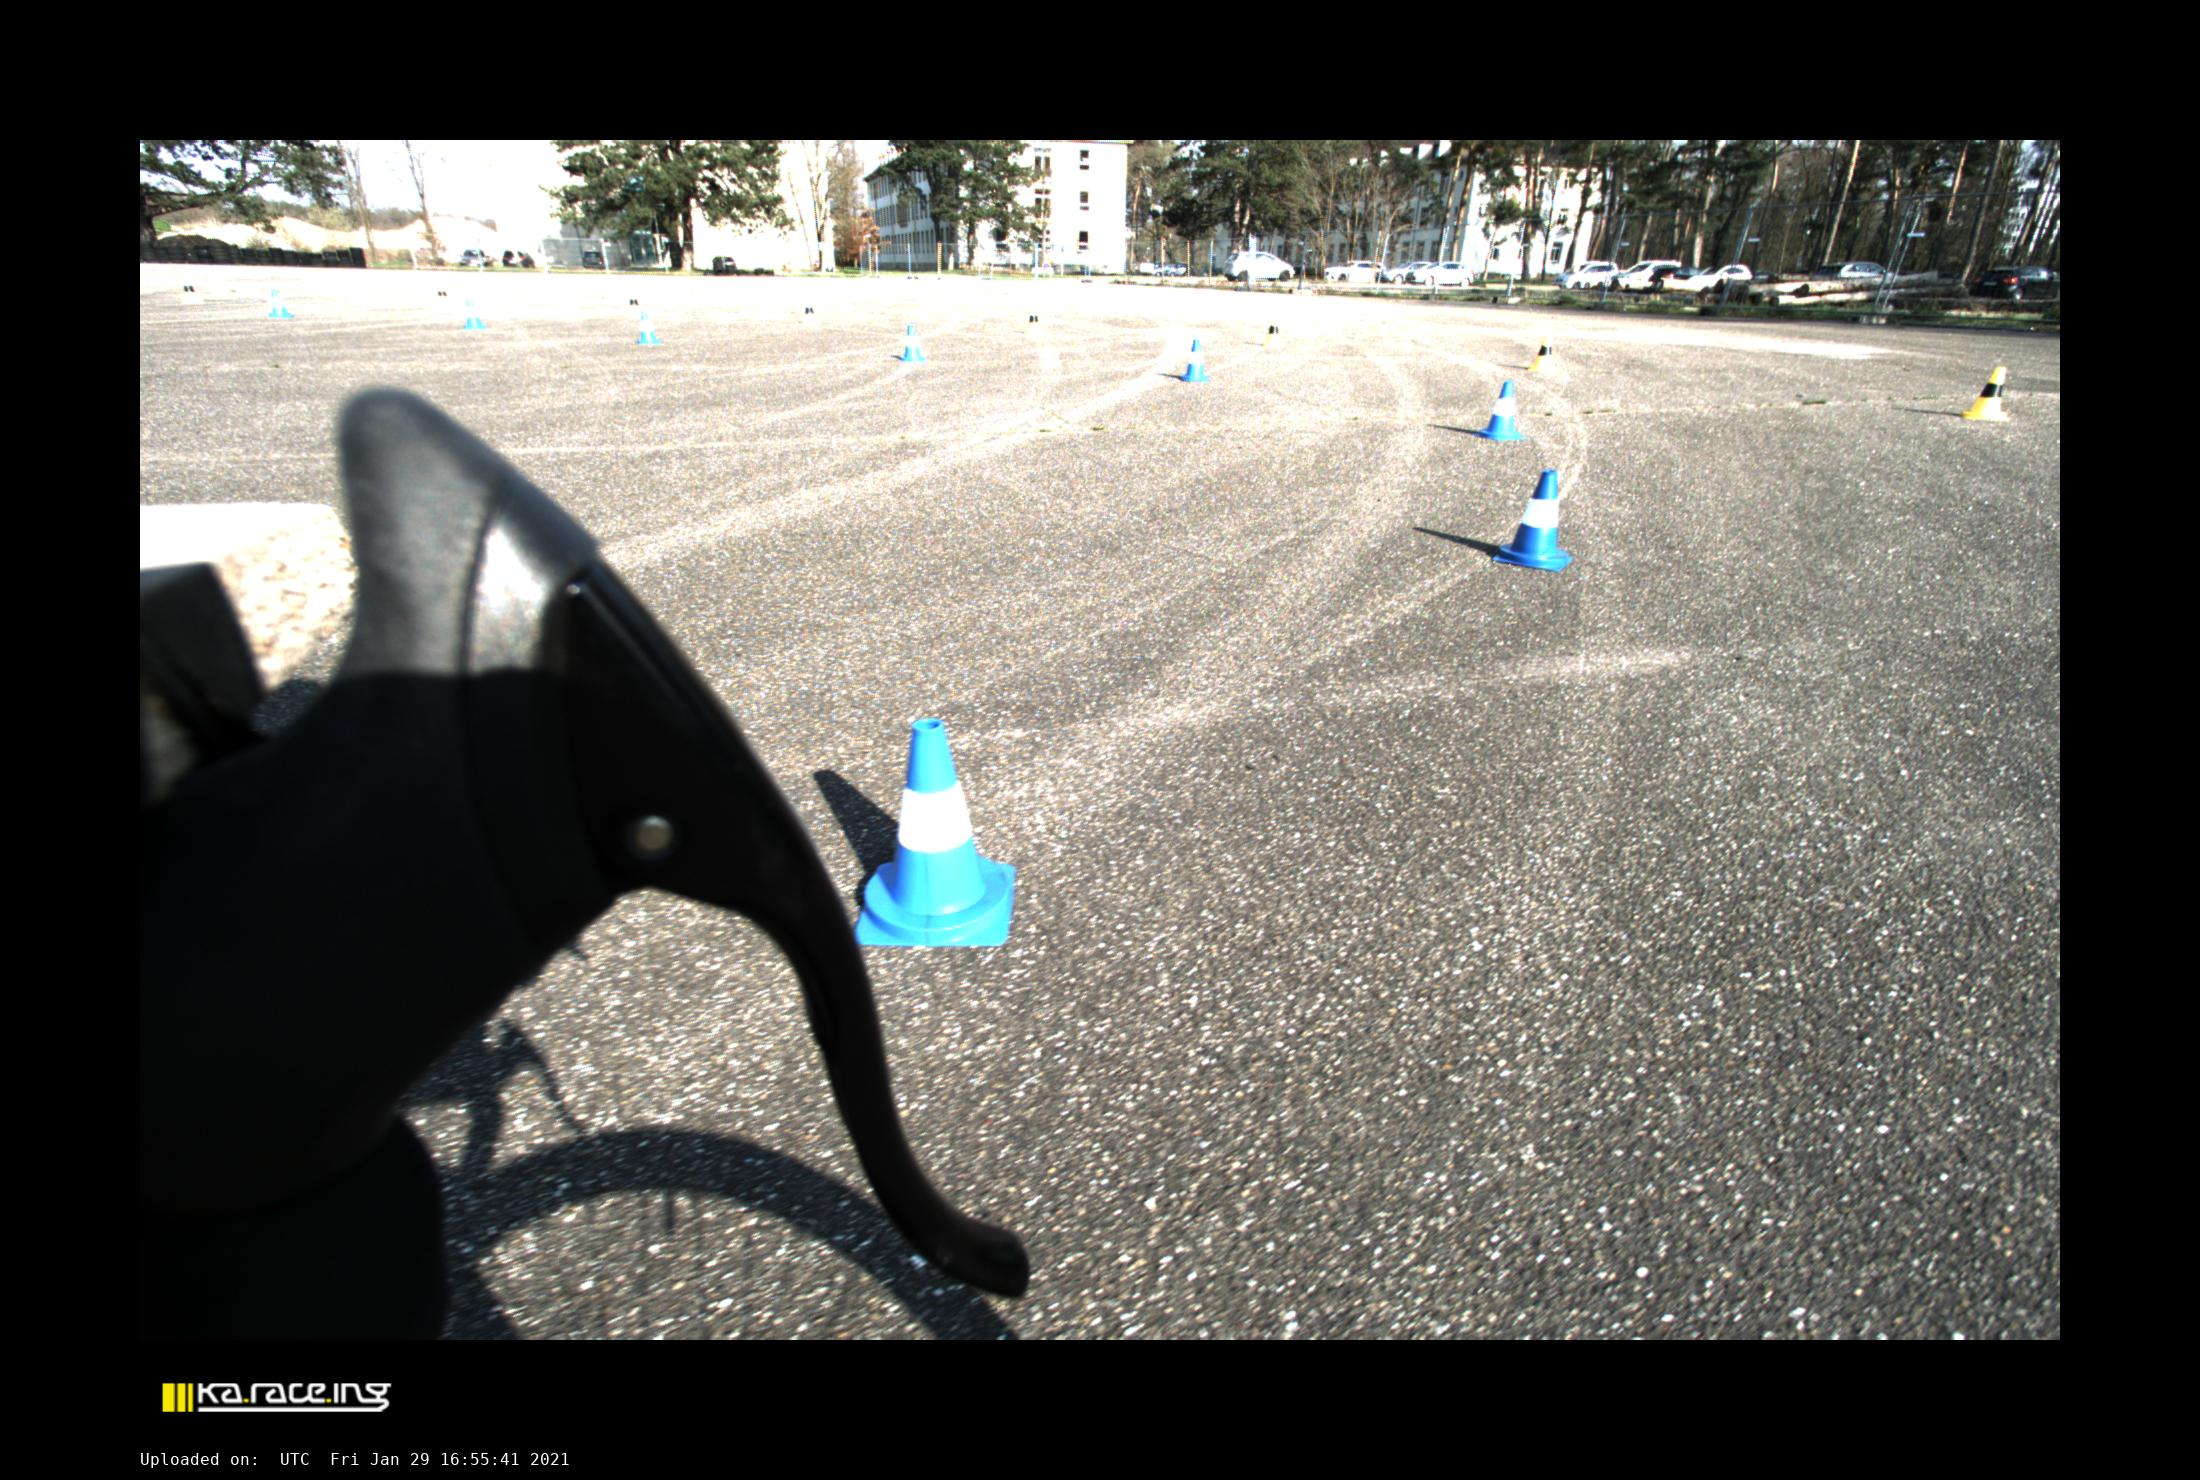blue_cone: (854, 718, 1016, 947), (1492, 469, 1573, 572), (1472, 381, 1526, 441), (1180, 339, 1209, 382), (899, 325, 926, 362), (636, 311, 661, 344), (463, 299, 487, 330), (269, 289, 293, 318)
yellow_cone: (1963, 366, 2011, 422), (1529, 336, 1557, 371), (1022, 306, 1047, 338), (1262, 316, 1285, 349), (798, 296, 821, 328), (179, 274, 204, 303), (433, 282, 453, 311), (625, 290, 642, 318)
